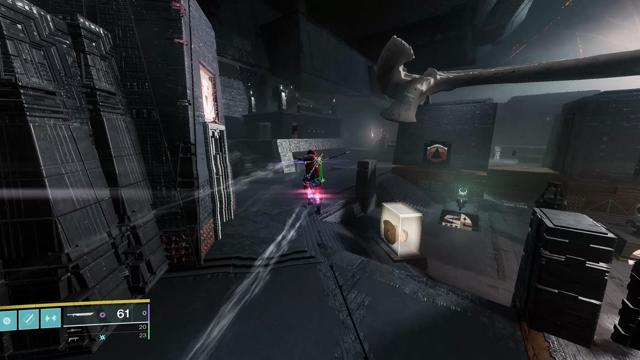give: (201, 79, 214, 118)
pyramid: (427, 144, 447, 163)
